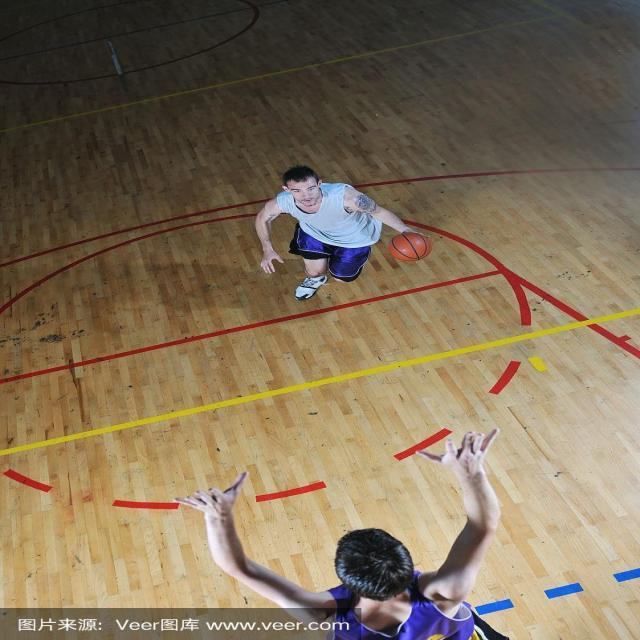rim: (389, 230, 432, 262)
